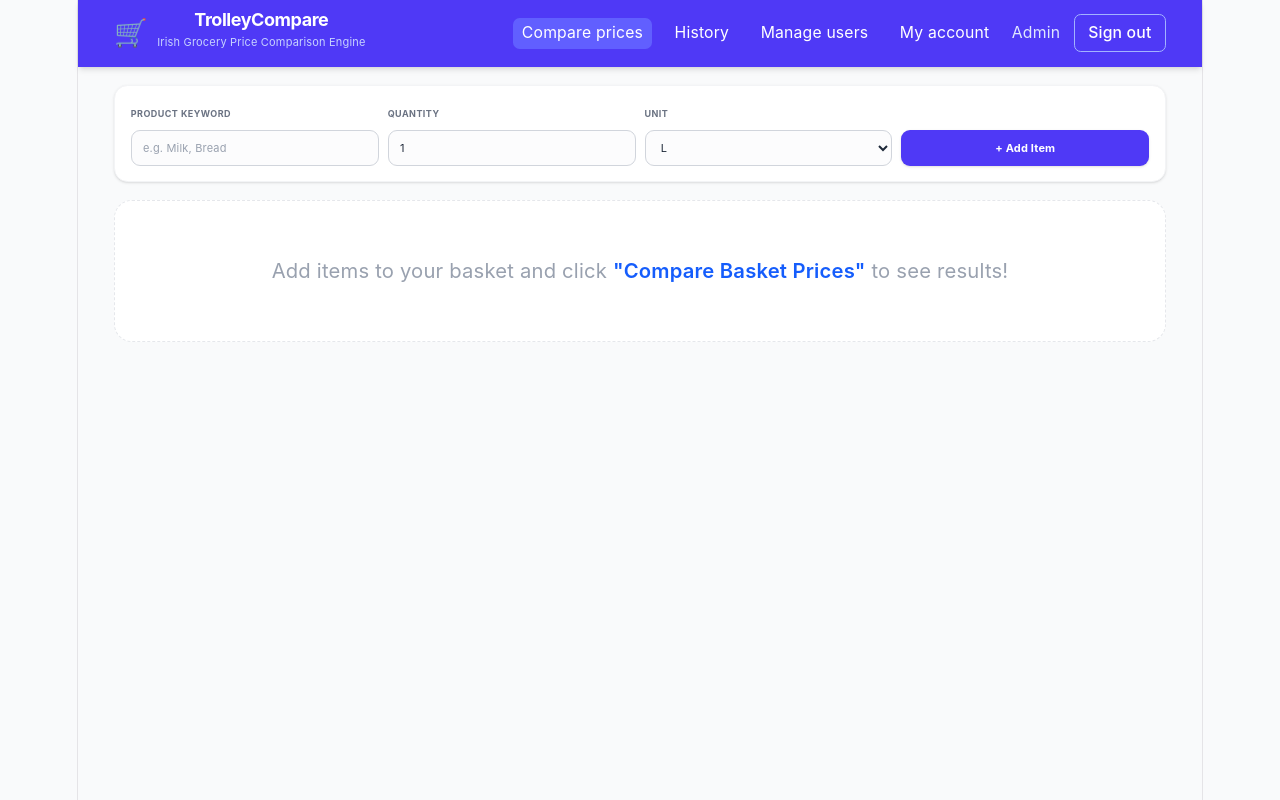
Test: App › shows saved history, restores an entry, and routes admins to user management
Expected: the text "Admin" is shown, [1012,22,1060,44]
Click the button "History" at (702,33), box [666,18,738,49]
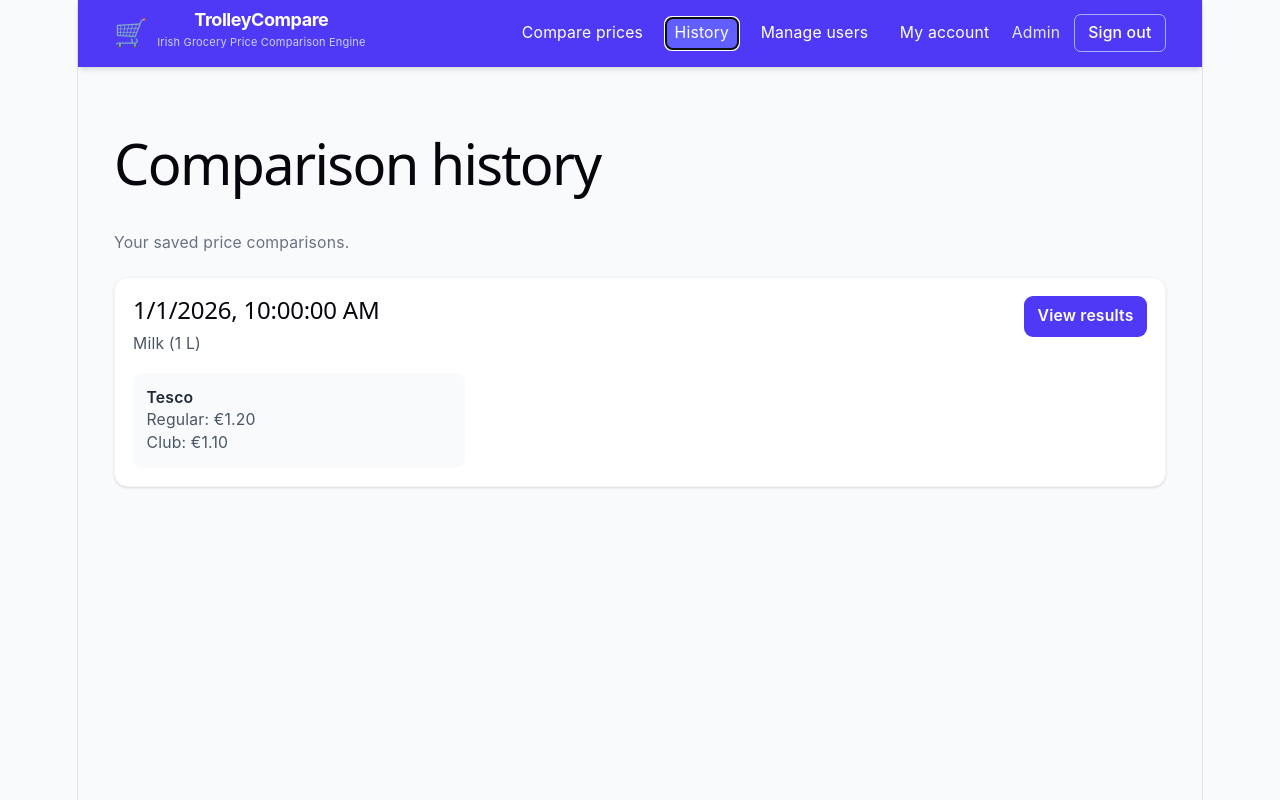
Click the button "View results" at (1086,317), box [1024,296,1147,337]
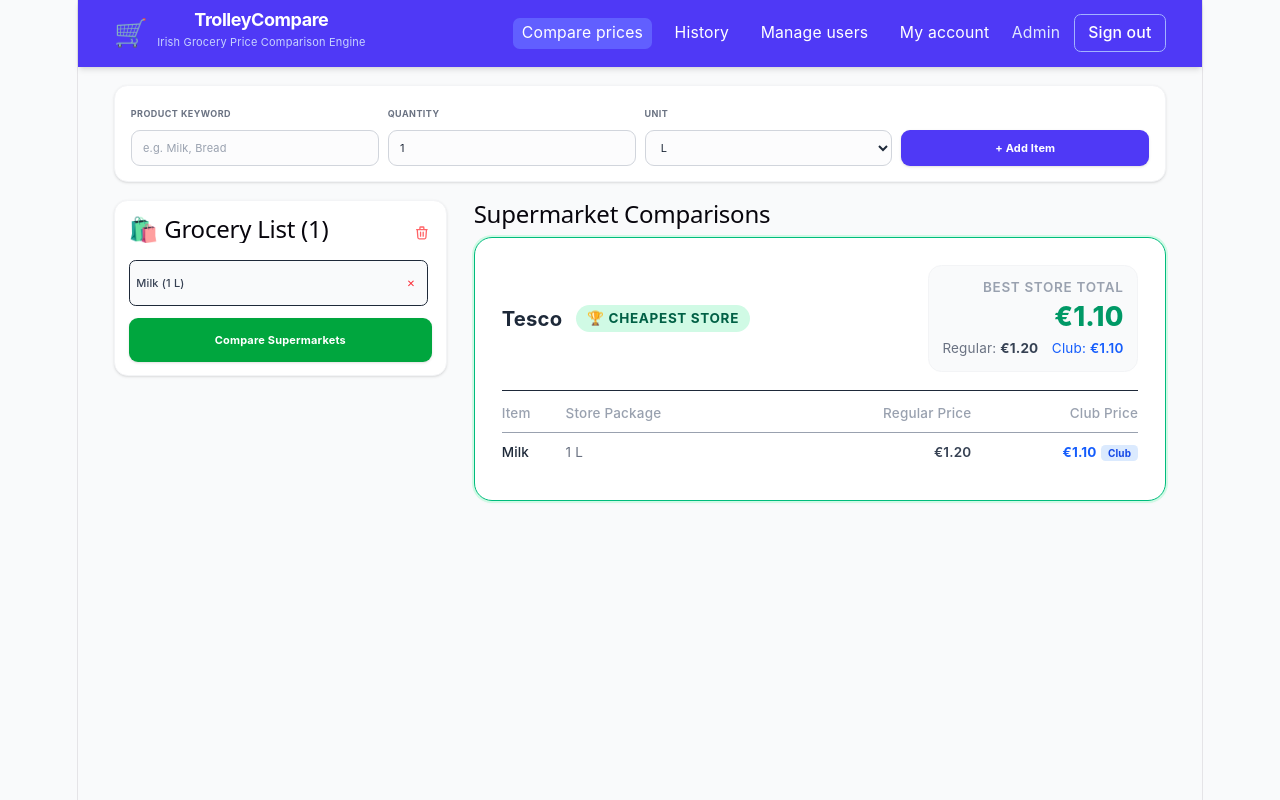
Expected: the text "Milk (1 L)" is shown, [136,276,185,290]
Expected: the heading "Supermarket Comparisons" is shown, [474,197,770,230]
Click the button "Manage users" at (814,33), box [752,18,877,49]
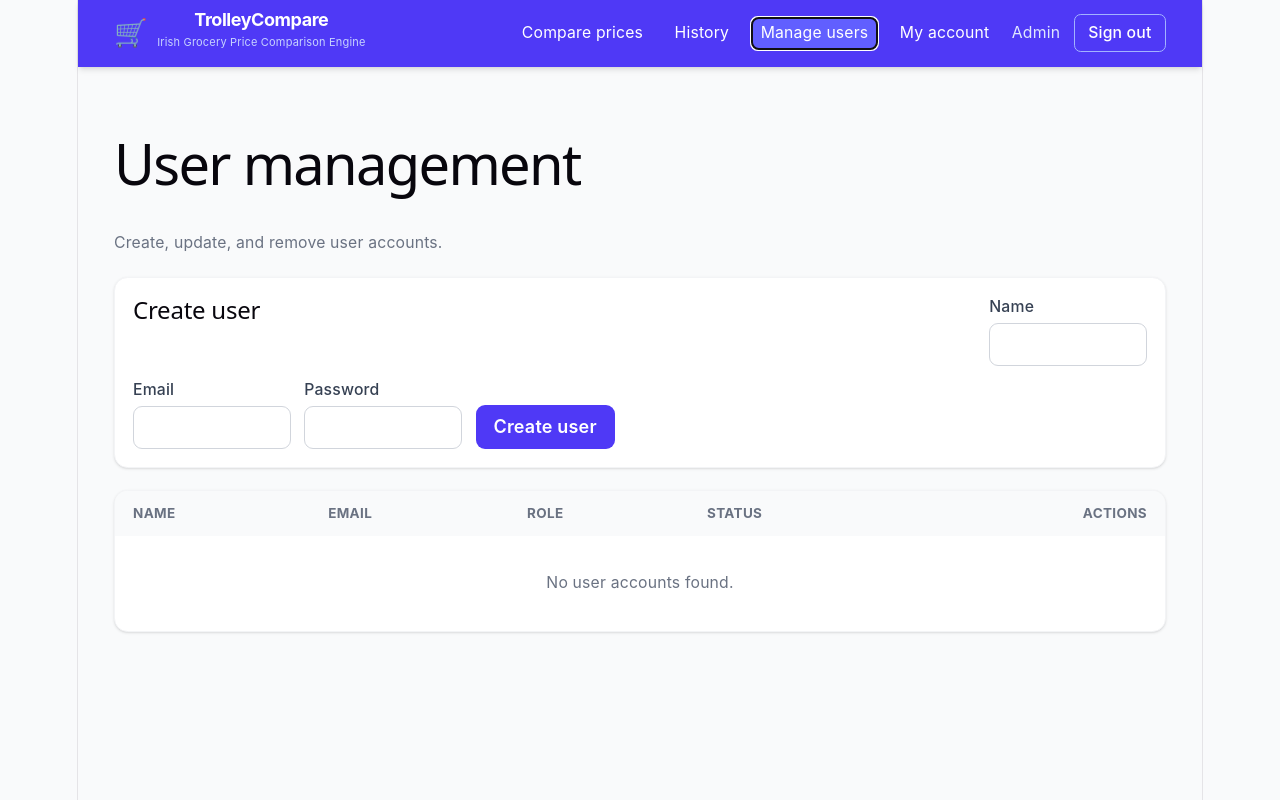
Expected: the heading "User management" is shown, [114,125,580,201]
